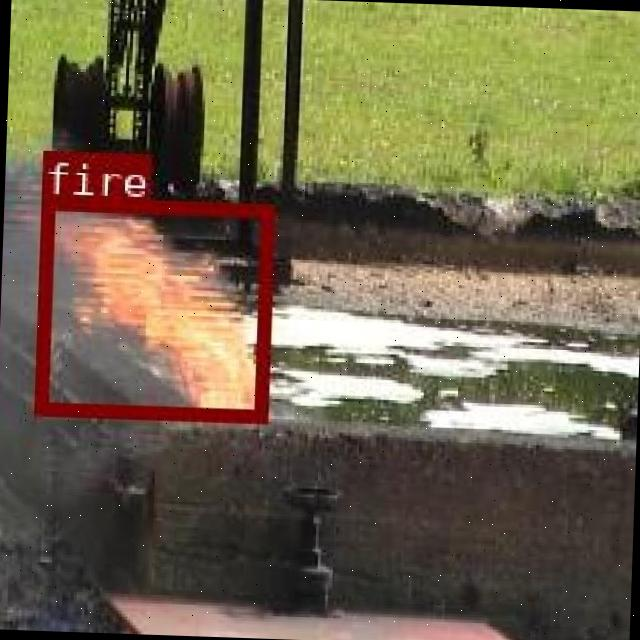fire: (32, 193, 272, 418)
